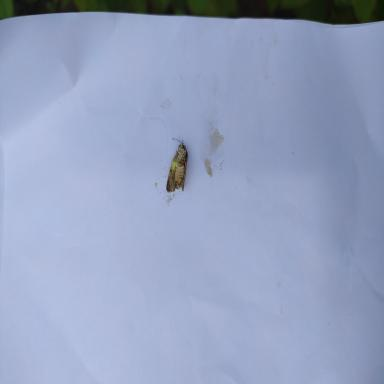pbw: (166, 138, 188, 192)
